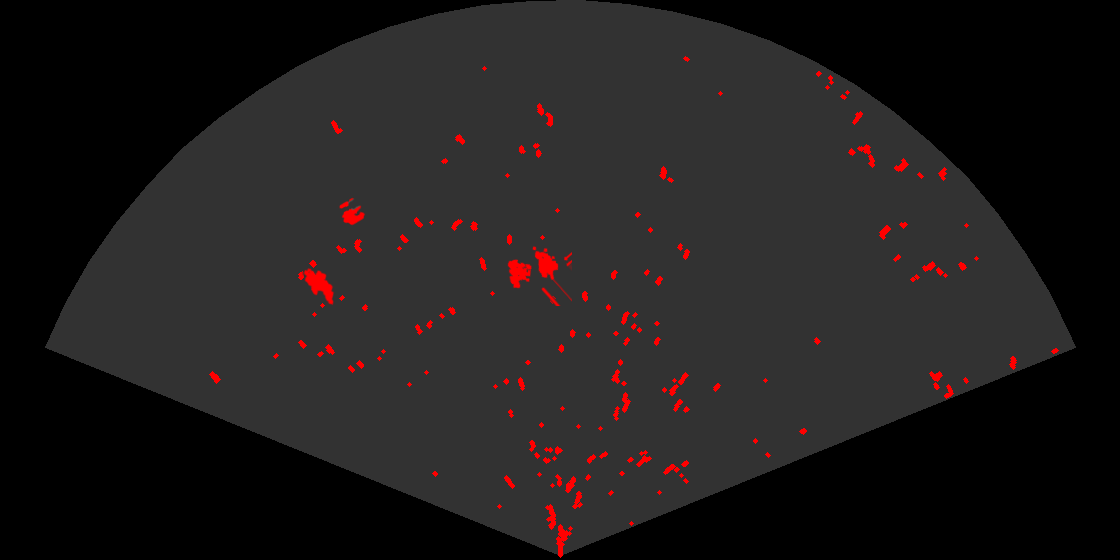AUV: (302, 266, 336, 307)
ball: (338, 196, 367, 227)
cage: (506, 245, 572, 306)
